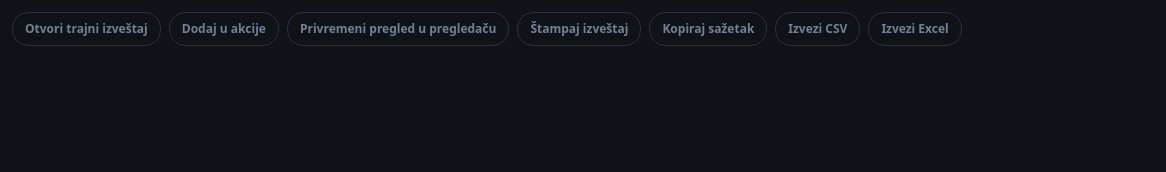
Test case: SupplierDecisionReportActions › shows existing message when backend reports existing action
Click the button "Dodaj u akcije": (224, 29) [169,12,279,46]
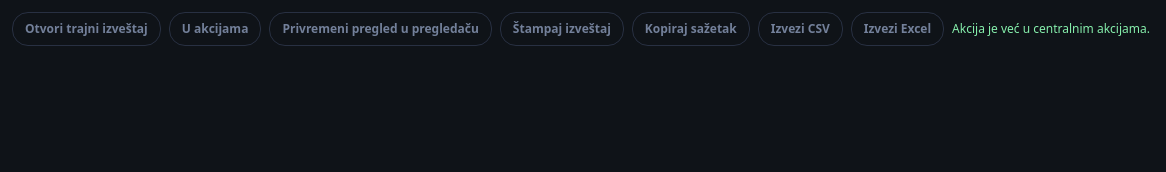
Result: the text "Akcija je već u centralnim akcijama." is shown at [952,21,1150,37]
